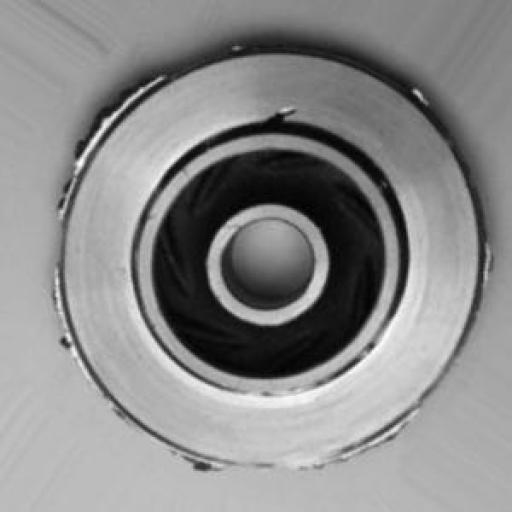defect: (30, 20, 496, 474)
